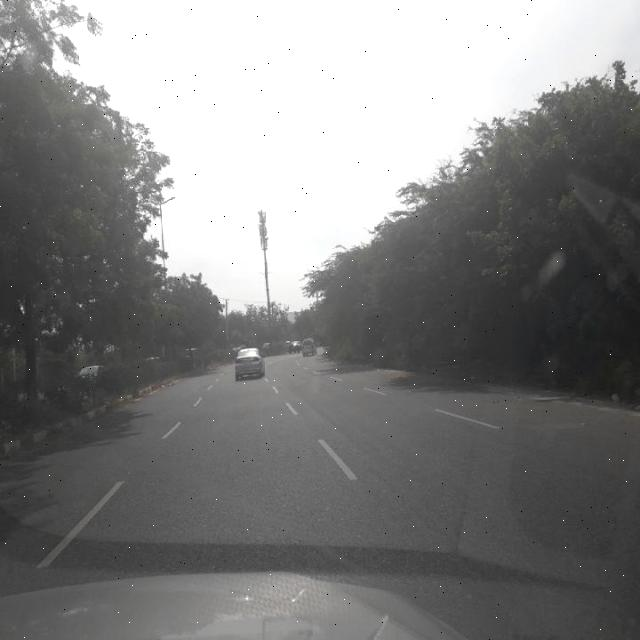D00: (358, 463, 448, 533)
